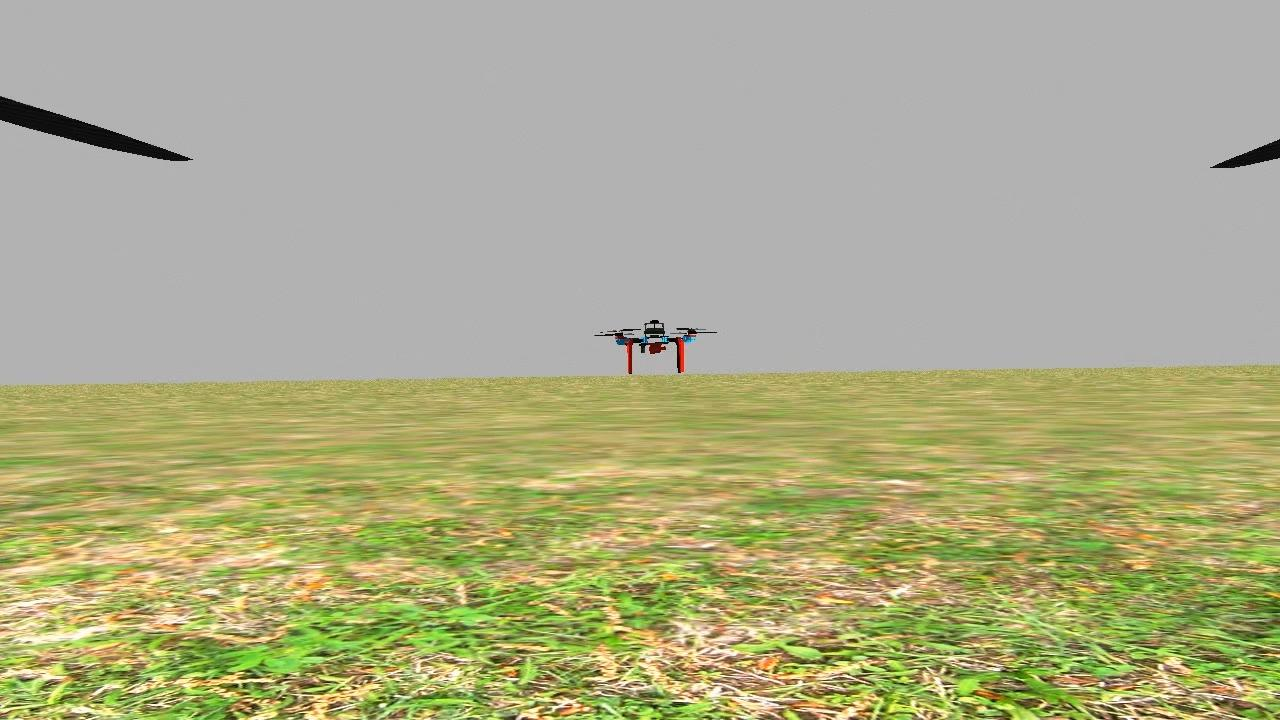UAV: (609, 312, 702, 382)
